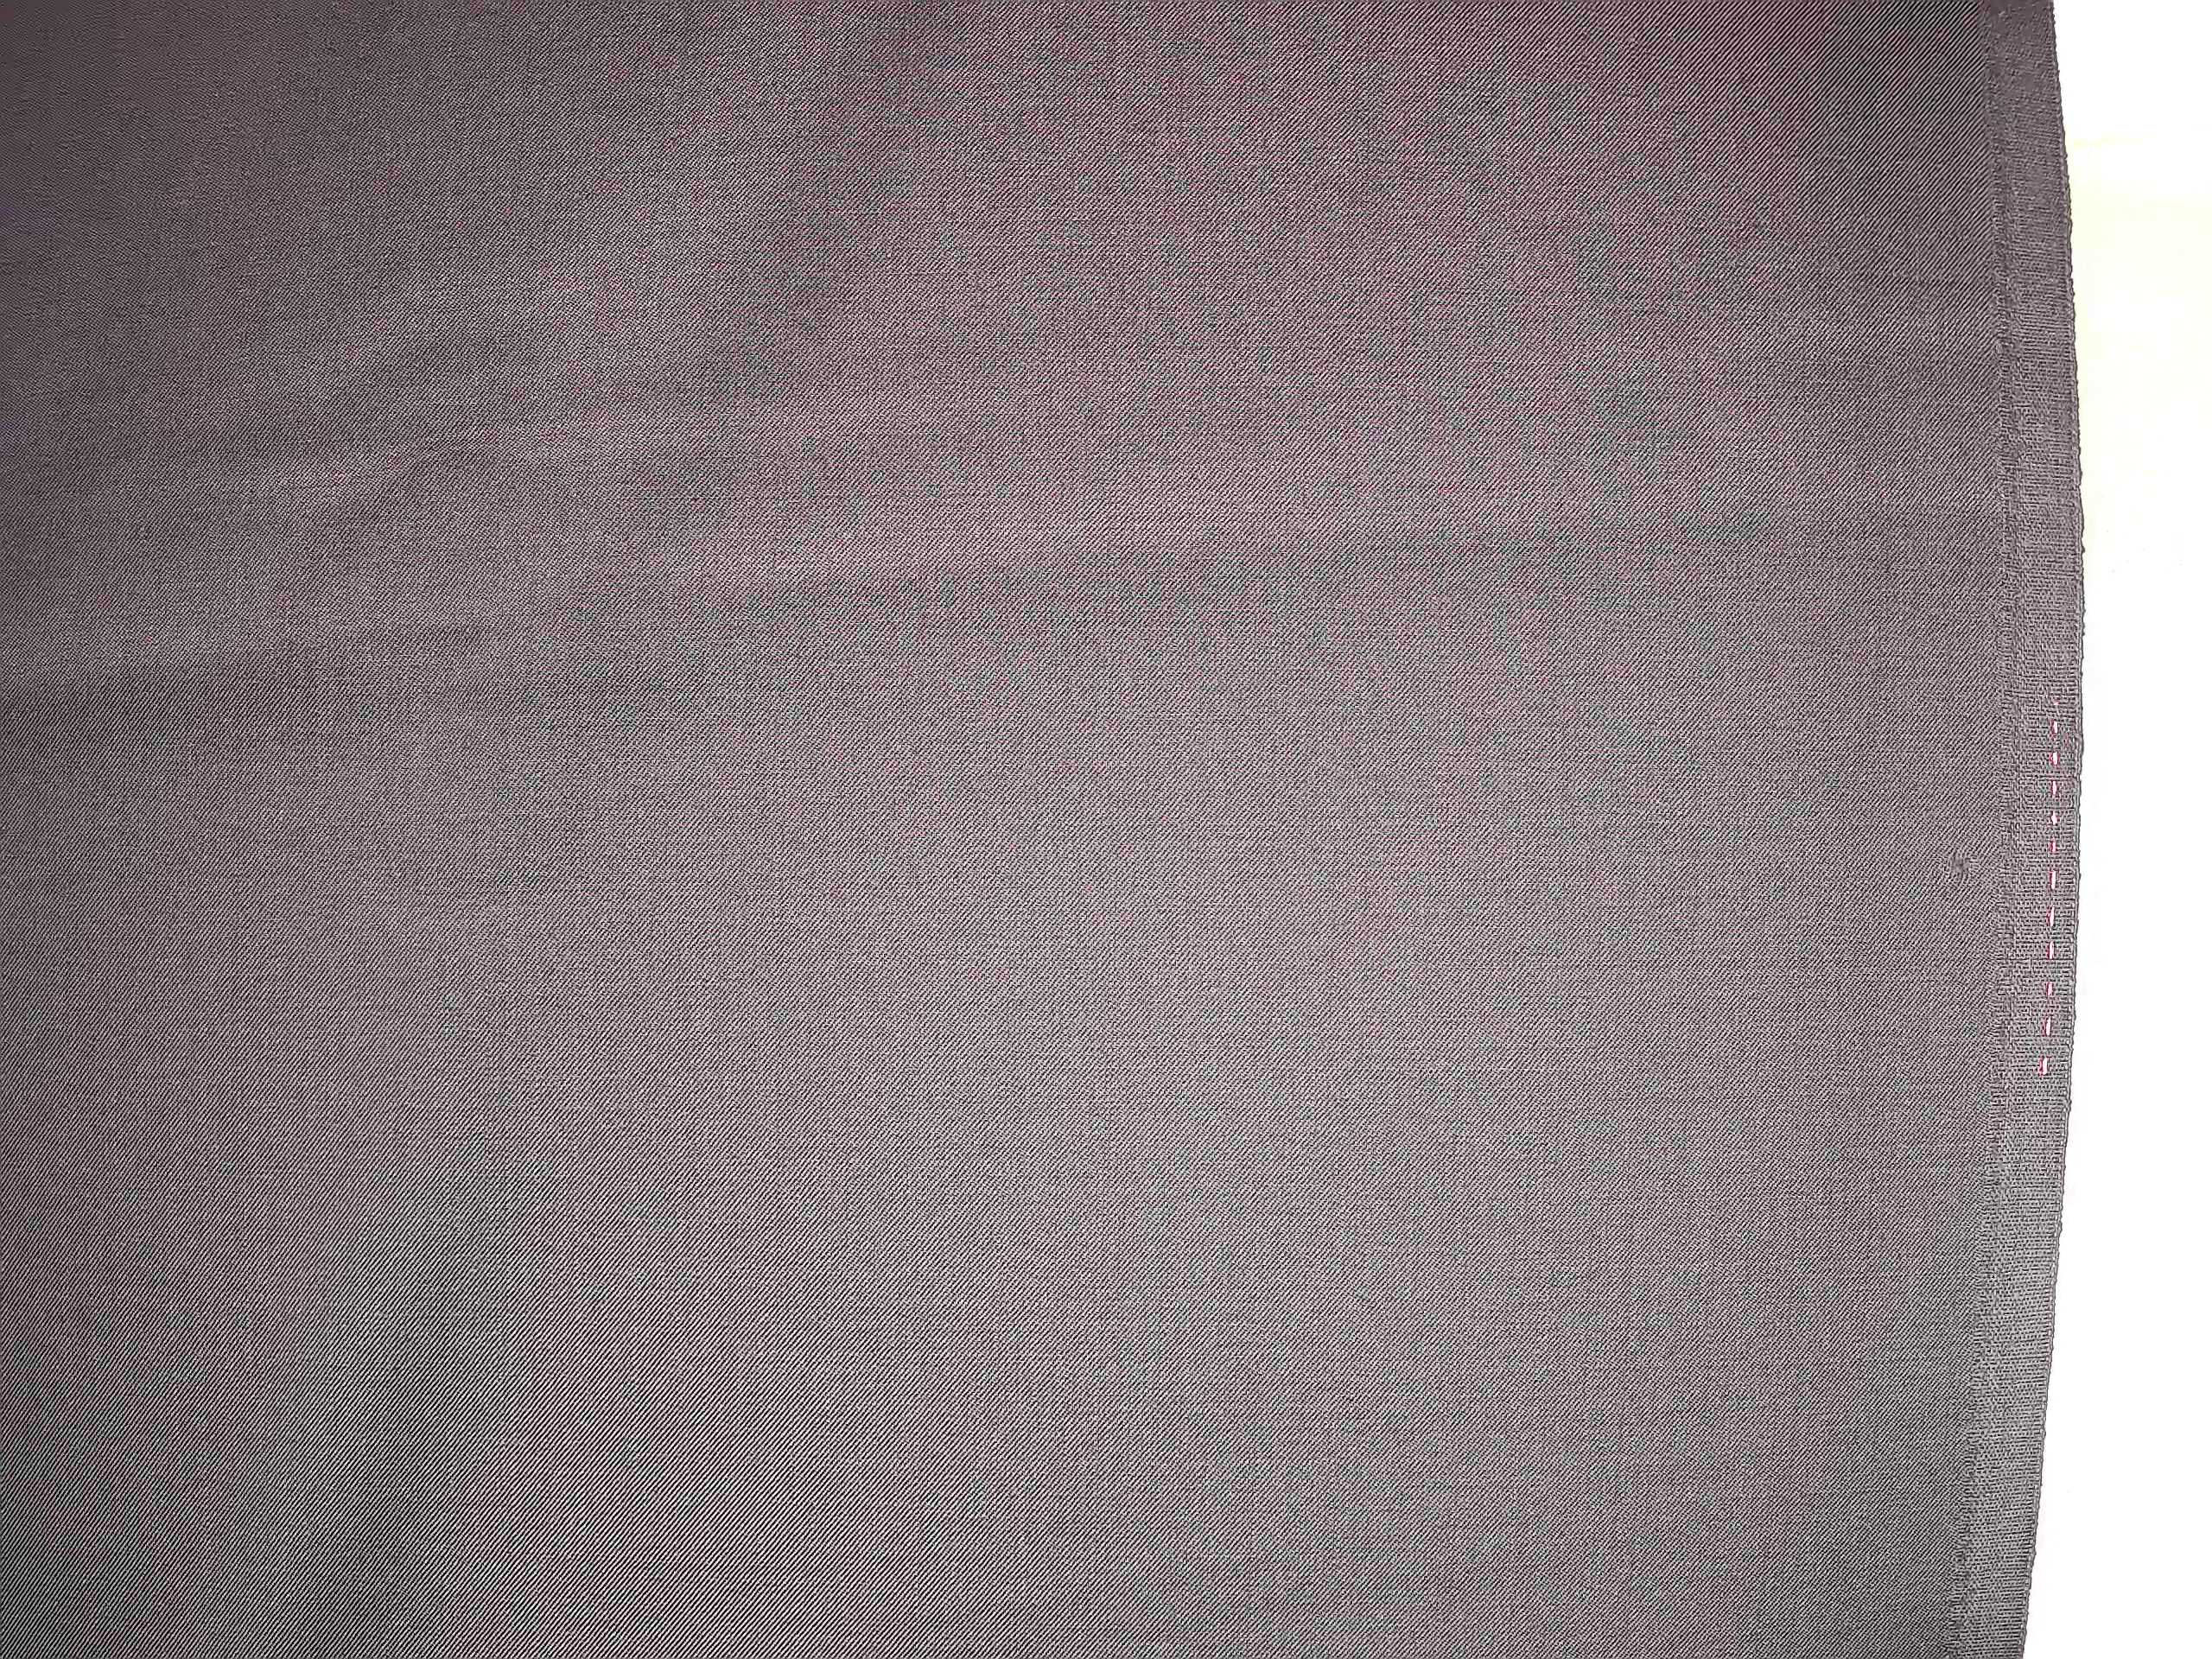brushed-hole: (1914, 824, 1994, 917)
